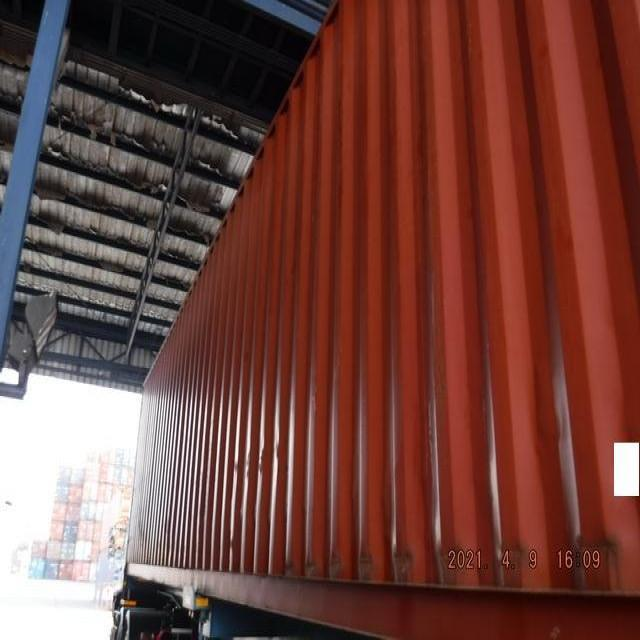Minor-Dent: (277, 531, 628, 589)
